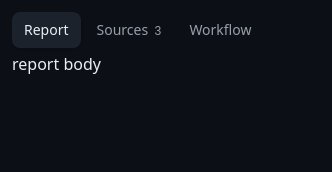
Test: Tabs › shows only the active panel
Expected: the text "report body" is shown, [12, 53, 101, 75]
Expected: the text "sources body" is not shown
Click the tab "Sources3". click: [129, 30]
box: [84, 12, 173, 48]
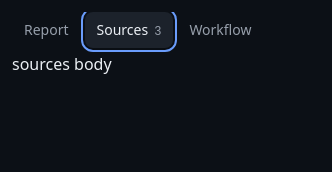
Expected: the text "sources body" is shown, [12, 53, 112, 75]
Expected: the text "report body" is gone
